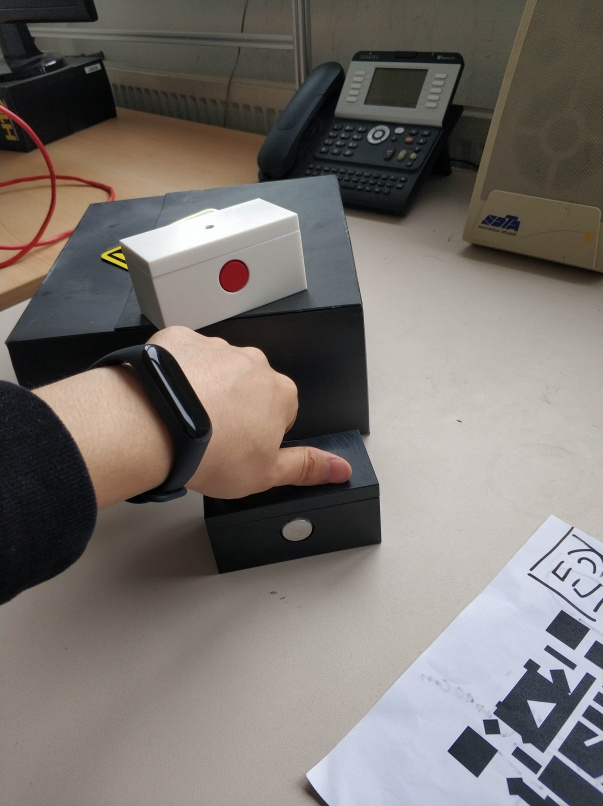black+black+silver: (198, 426, 385, 577)
white+white+red: (114, 196, 313, 333)
